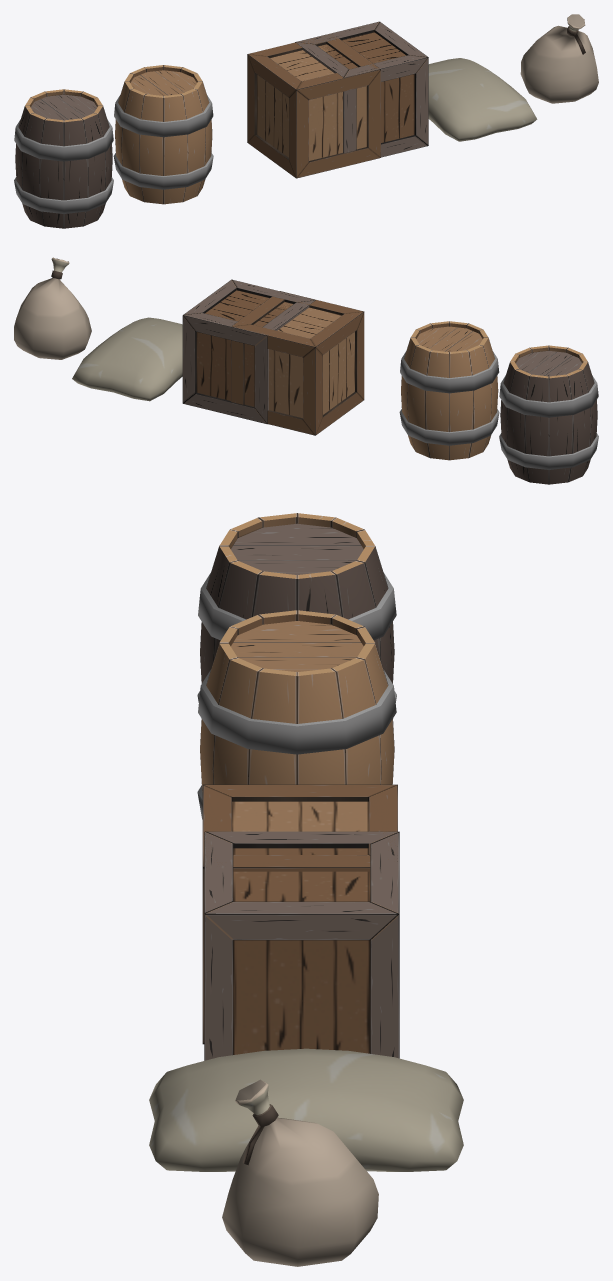
Rendered from props_crate_01.glb.
3 renders of one model, top to bottom at view 1: azimuth 30°, elevation 25°; view 2: azimuth 150°, elevation 25°; view 3: azimuth 270°, elevation 25°, orthographic. The views are drawn at different scales.
Parts seen in each view (by area): view 1: props_crate_01, props_barrel_02, props_barrel_01, props_crate_02, props_sack_01, props_sack_02; view 2: props_crate_01, props_barrel_02, props_barrel_01, props_crate_02, props_sack_01, props_sack_02; view 3: props_crate_02, props_barrel_01, props_sack_01, props_barrel_02, props_sack_02, props_crate_01.
Part boxes in pixels (x1,y1,x2,y2): props_crate_01: (247, 34, 380, 178); props_barrel_02: (14, 89, 113, 228); props_barrel_01: (113, 65, 213, 204); props_crate_02: (295, 21, 428, 157); props_sack_01: (428, 58, 537, 141); props_sack_02: (520, 14, 598, 103); props_crate_01: (231, 291, 364, 435); props_barrel_02: (499, 345, 598, 484); props_barrel_01: (399, 321, 499, 460); props_crate_02: (182, 279, 315, 424); props_sack_01: (72, 317, 182, 401); props_sack_02: (14, 257, 91, 359); props_crate_02: (204, 831, 399, 1060); props_barrel_01: (197, 610, 396, 819); props_sack_01: (149, 1048, 463, 1171); props_barrel_02: (197, 513, 396, 718); props_sack_02: (222, 1079, 378, 1266); props_crate_01: (202, 784, 397, 1044).
Bounding box in the file's own units: 5.76 × 1.02 × 1.37.
Materials: 1 (1 with a texture image).
